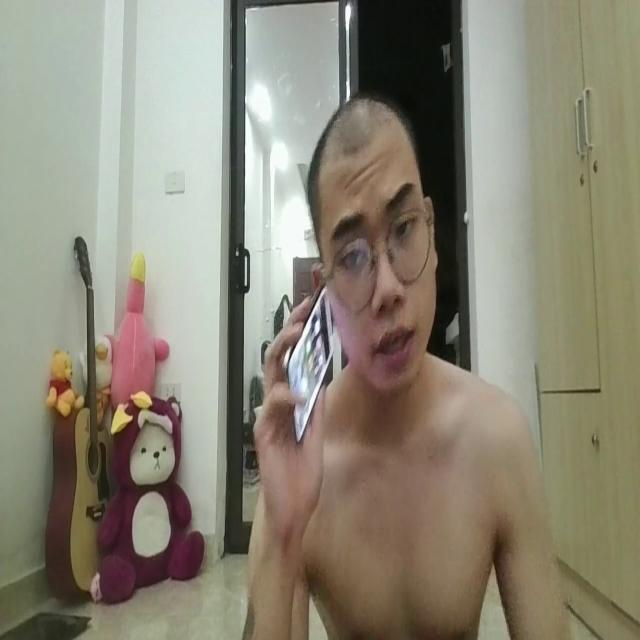phone: (276, 277, 350, 436)
student: (240, 102, 578, 640)
